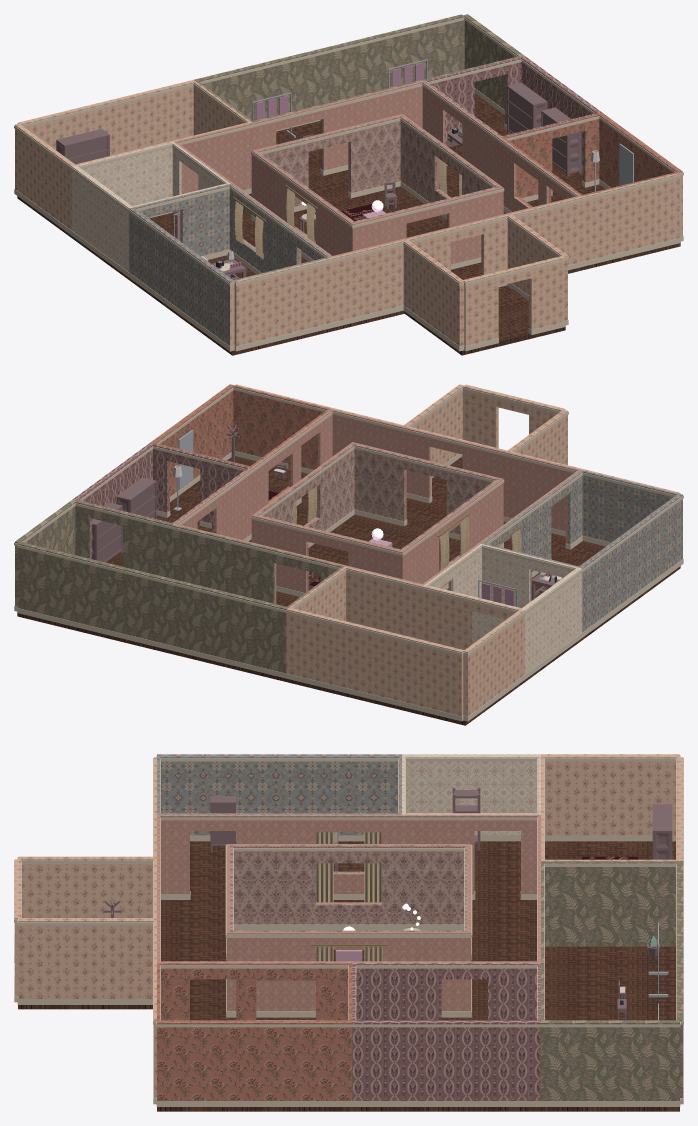
Rendered from apartment.glb.
3 renders of one model, top to bottom at view 1: azimuth 30°, elevation 25°; view 2: azimuth 150°, elevation 25°; view 3: azimuth 270°, elevation 25°, orthographic. The views are drawn at different scales.
Visible parts, largest first — view 1: Exterior_North_00, Exterior_West_00, Exterior_South_W_00, Exterior_South_E_00, Exterior_East_00, Gallery_South_02, Gallery_South_04, Vestibule_West_00, Courtyard_North_02, Atelier_Store_02, Fitting_Loop_05, Courtyard_East_03 (+43 smaller); view 2: Exterior_North_00, Exterior_West_00, Gallery_South_04, Gallery_South_02, Exterior_South_W_00, Exterior_East_00, Exterior_South_E_00, Courtyard_South_02, Fitting_Loop_05, Painted skirting Exterior_North_00, Courtyard, Courtyard_East_00 (+40 smaller); view 3: Exterior_East_00, Exterior_West_00, Gallery, Vestibule_East_00.001, Vestibule_East_00, Vestibule_West_00, Fitting_Loop_05, Courtyard_West_00, Courtyard_West_03, Loop_South, Loop_North, Courtyard_East_00 (+43 smaller).
Boxes of the visible parts, x1=… form: Exterior_North_00: x1=18, y1=14, x2=464, y2=155; Exterior_West_00: x1=15, y1=123, x2=234, y2=346; Exterior_South_W_00: x1=233, y1=238, x2=405, y2=346; Exterior_South_E_00: x1=507, y1=172, x2=679, y2=265; Exterior_East_00: x1=463, y1=14, x2=682, y2=236; Gallery_South_02: x1=123, y1=116, x2=276, y2=206; Gallery_South_04: x1=320, y1=67, x2=474, y2=170; Vestibule_West_00: x1=403, y1=240, x2=464, y2=346; Courtyard_North_02: x1=348, y1=114, x2=404, y2=193; Atelier_Store_02: x1=179, y1=183, x2=229, y2=255; Fitting_Loop_05: x1=462, y1=110, x2=518, y2=211; Courtyard_East_03: x1=400, y1=116, x2=439, y2=202; Exterior_North_00: x1=18, y1=542, x2=464, y2=716; Exterior_West_00: x1=463, y1=493, x2=682, y2=716; Gallery_South_04: x1=122, y1=511, x2=276, y2=603; Gallery_South_02: x1=320, y1=560, x2=473, y2=649; Exterior_South_W_00: x1=507, y1=451, x2=679, y2=542; Exterior_East_00: x1=15, y1=384, x2=234, y2=606; Exterior_South_E_00: x1=233, y1=384, x2=405, y2=469; Courtyard_South_02: x1=350, y1=442, x2=406, y2=521; Fitting_Loop_05: x1=212, y1=456, x2=268, y2=539; Painted skirting Exterior_North_00: x1=17, y1=608, x2=463, y2=721; Courtyard: x1=308, y1=514, x2=460, y2=590; Courtyard_East_00: x1=316, y1=444, x2=354, y2=530; Exterior_East_00: x1=157, y1=1020, x2=679, y2=1100; Exterior_West_00: x1=157, y1=754, x2=679, y2=835; Gallery: x1=541, y1=841, x2=679, y2=1111; Vestibule_East_00.001: x1=543, y1=859, x2=679, y2=946; Vestibule_East_00: x1=18, y1=918, x2=153, y2=998; Vestibule_West_00: x1=18, y1=856, x2=153, y2=917; Fitting_Loop_05: x1=316, y1=961, x2=441, y2=1020; Courtyard_West_00: x1=233, y1=844, x2=315, y2=924; Courtyard_West_03: x1=382, y1=844, x2=464, y2=924; Loop_South: x1=161, y1=898, x2=229, y2=1020; Loop_North: x1=468, y1=898, x2=536, y2=1020; Courtyard_East_00: x1=233, y1=930, x2=315, y2=1011.
Size of the model in its own units: 19.25 by 3 by 20.25.
Materials: 26 (11 with a texture image).
